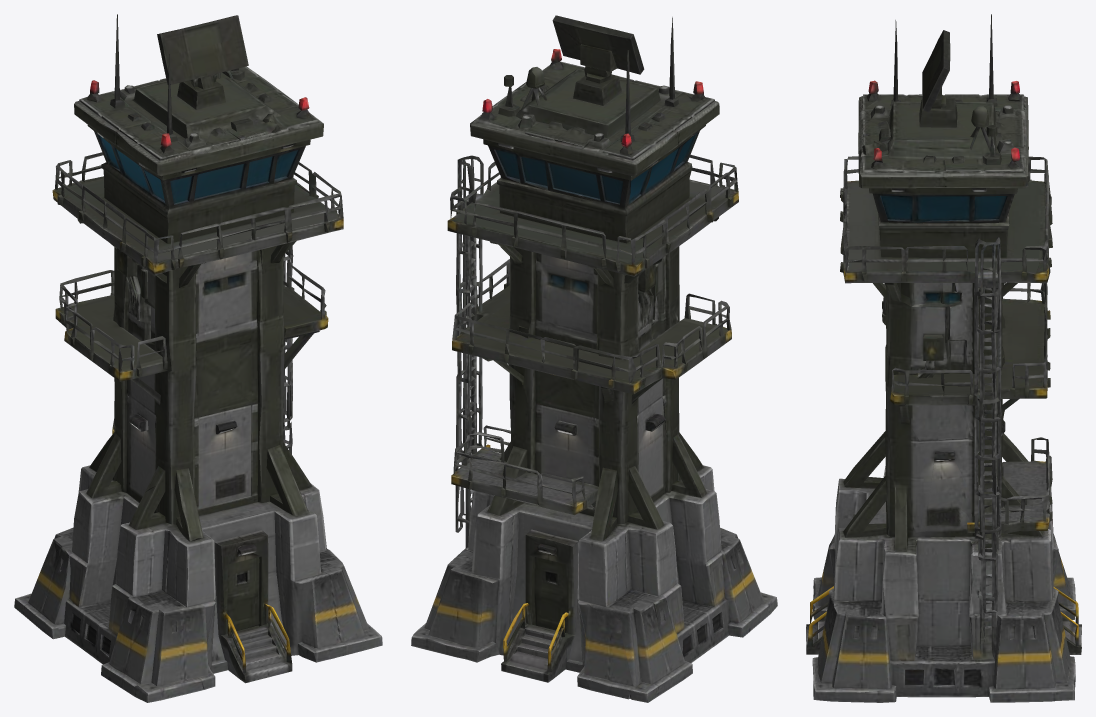
Rendered from gt_sentinel.glb.
3 renders of one model, left to right at view 1: azimuth 30°, elevation 25°; view 2: azimuth 150°, elevation 25°; view 3: azimuth 270°, elevation 25°, orthographic.
Visible parts, largest first — view 1: gt_sentinel; view 2: gt_sentinel; view 3: gt_sentinel.
Part boxes in pixels (x1,y1,x2,y2): gt_sentinel: (14,14,382,702); gt_sentinel: (411,15,777,702); gt_sentinel: (806,14,1081,702).
Size of the model in its own units: 0.8036 by 1.9 by 0.7894.
Materials: 1 (1 with a texture image).
